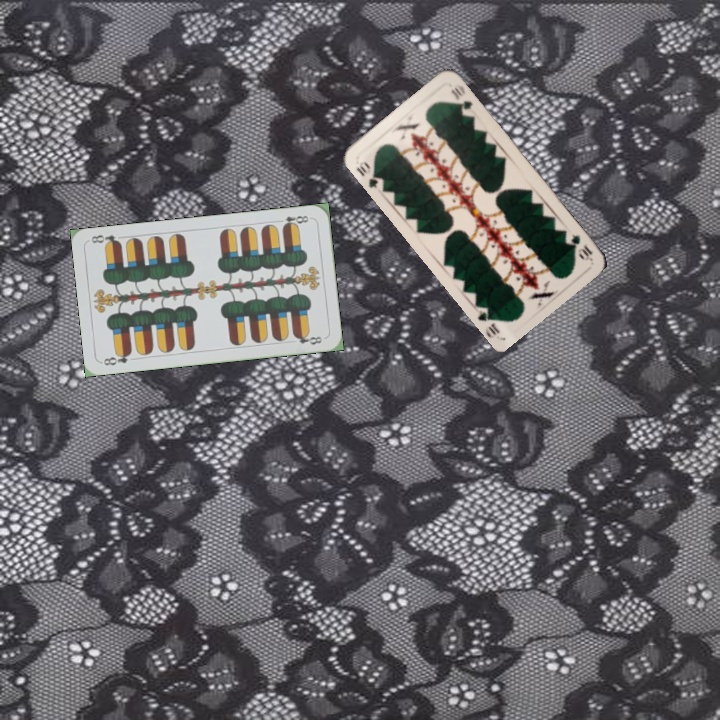E8: (273, 211, 314, 230), (100, 348, 134, 368)
G10: (352, 157, 383, 191), (567, 229, 595, 263)
